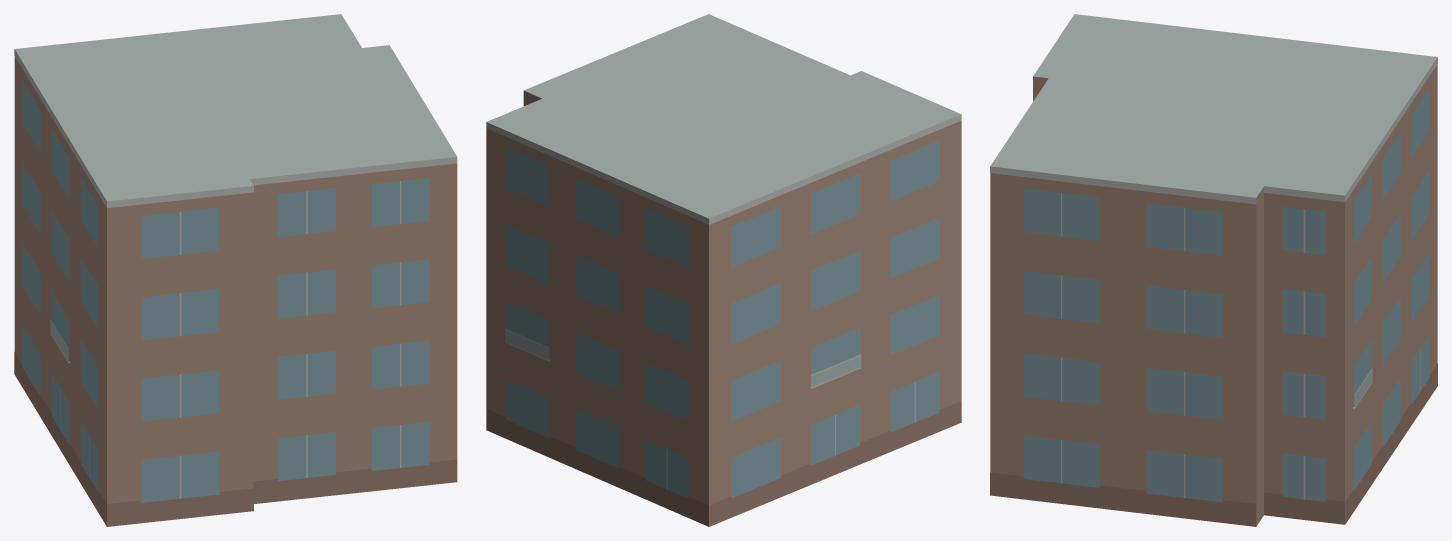
Rendered from survey-upis-32820863.glb.
3 renders of one model, left to right at view 1: azimuth 30°, elevation 25°; view 2: azimuth 150°, elevation 25°; view 3: azimuth 270°, elevation 25°, orthographic. The views are drawn at different scales.
Visible parts, largest first — view 1: survey-upis-32820863.tmp; view 2: survey-upis-32820863.tmp; view 3: survey-upis-32820863.tmp.
Part boxes in pixels (<box>): survey-upis-32820863.tmp: <box>14,14,457,526</box>; survey-upis-32820863.tmp: <box>486,14,961,526</box>; survey-upis-32820863.tmp: <box>990,14,1437,526</box>.
Bounding box in the file's own units: 14.51 × 12.1 × 14.93.
